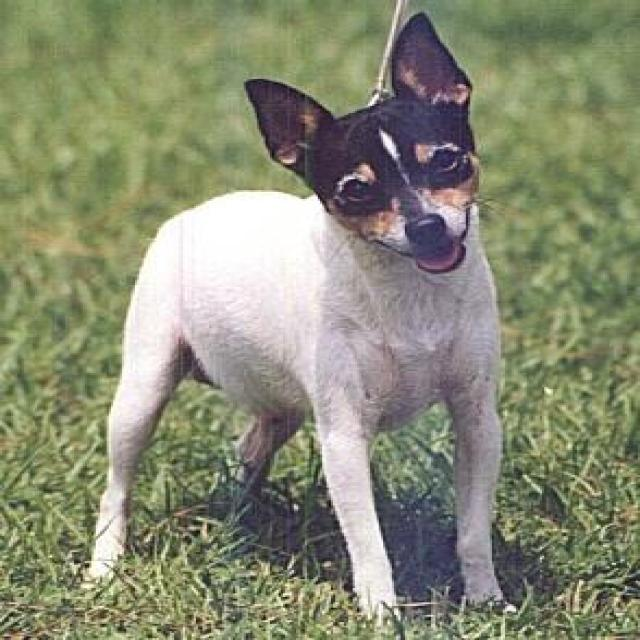toy_terrier: (76, 6, 505, 618)
